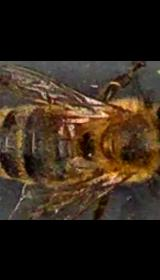varroa_mite: (40, 107, 87, 146)
